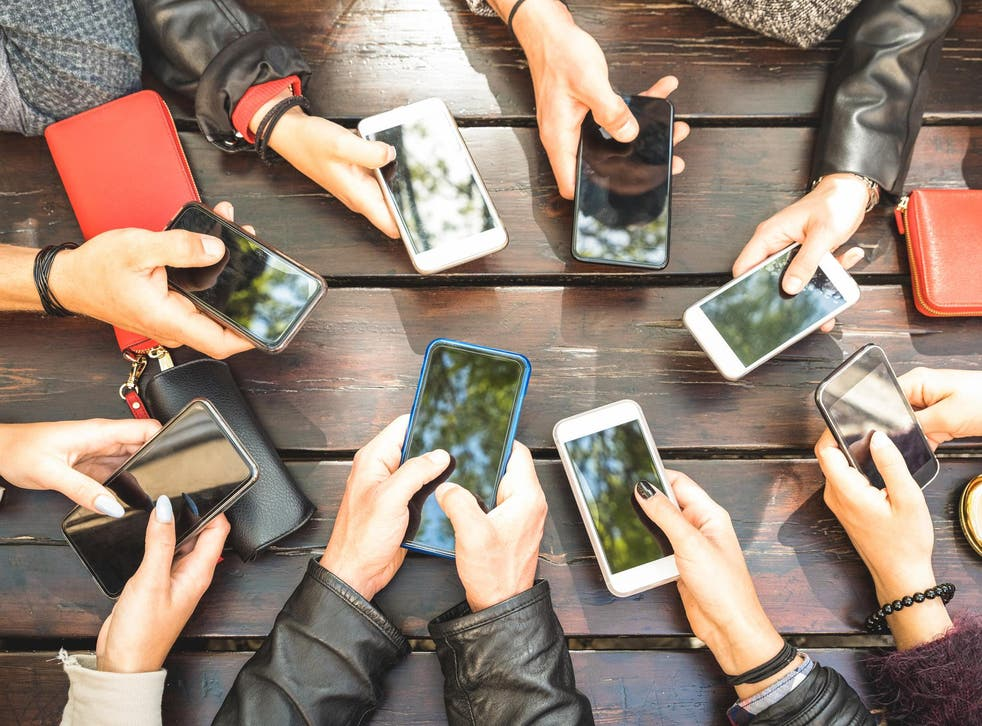phones: (25, 397, 279, 597), (545, 395, 737, 606), (370, 332, 537, 572), (136, 195, 356, 374), (647, 250, 888, 383), (557, 66, 699, 279)
